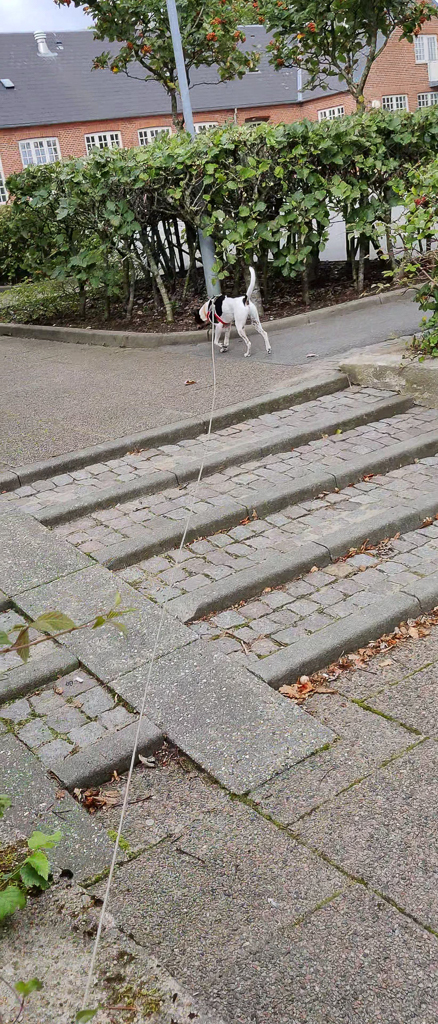Dog: (187, 264, 275, 361)
